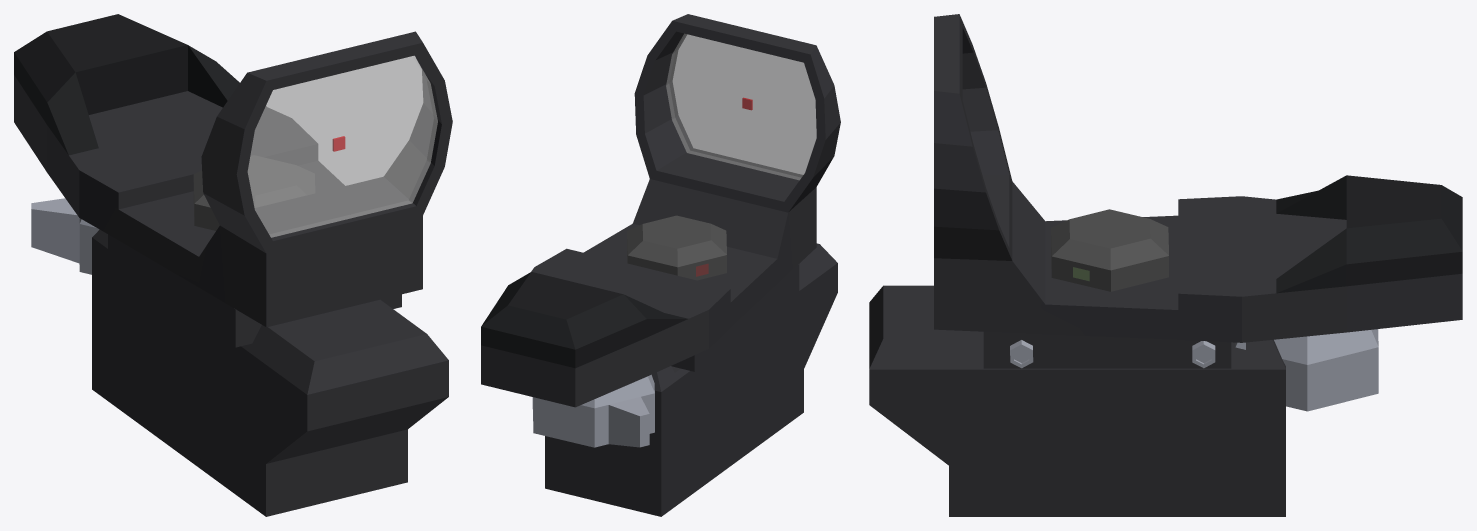
The model's file is red_dot_b.fbx.
The picture shows the model from 3 angles, left to right: view 1: azimuth 30°, elevation 25°; view 2: azimuth 150°, elevation 25°; view 3: azimuth 270°, elevation 25°; orthographic projection. The views are drawn at different scales.
Parts seen in each view (by area): view 1: red_dot_b, glass; view 2: red_dot_b, glass; view 3: red_dot_b.
Boxes of the visible parts, left/top/right/bottom form: red_dot_b: left=14, top=14, right=452, bottom=516; glass: left=247, top=56, right=437, bottom=237; red_dot_b: left=481, top=14, right=840, bottom=516; glass: left=666, top=34, right=816, bottom=179; red_dot_b: left=869, top=14, right=1462, bottom=516.
Bounding box in the file's own units: 3.03 × 5.52 × 6.91.
Materials: 2 (1 with a texture image).
